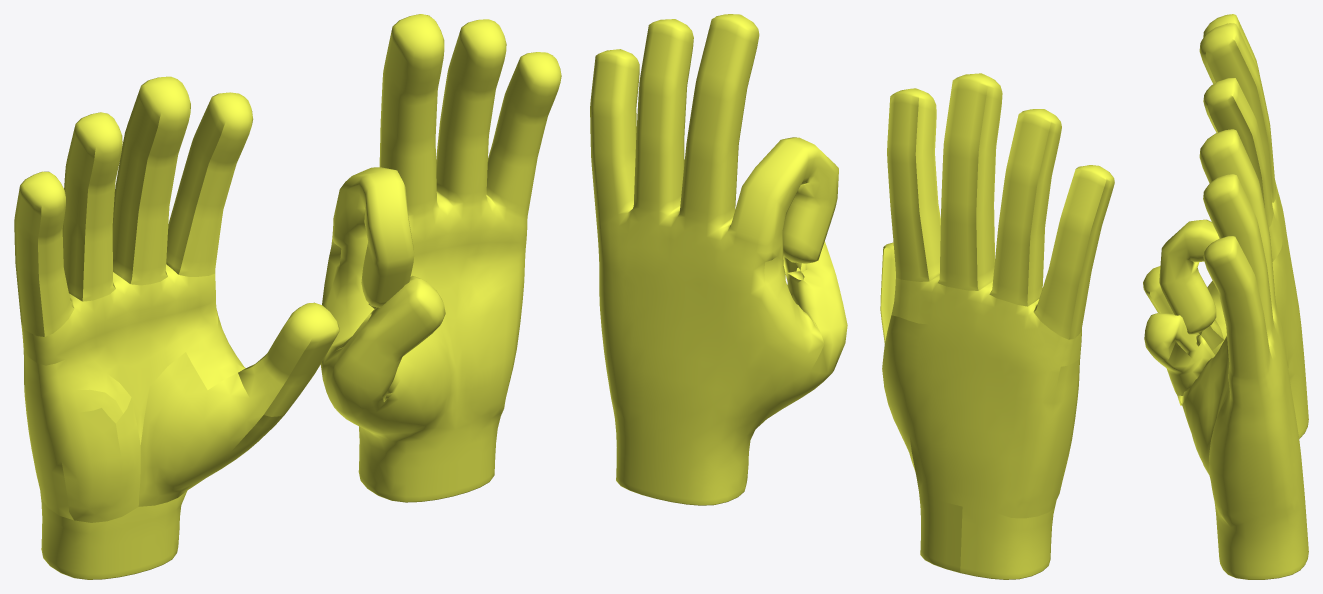
The picture shows the model from 3 angles, left to right: view 1: azimuth 30°, elevation 25°; view 2: azimuth 150°, elevation 25°; view 3: azimuth 270°, elevation 25°; orthographic projection. The views are drawn at different scales.
Parts seen in each view (by area): view 1: uploads_files_810024_Hand.001, uploads_files_810024_Hand; view 2: uploads_files_810024_Hand, uploads_files_810024_Hand.001; view 3: uploads_files_810024_Hand, uploads_files_810024_Hand.001.
Part boxes in pixels (bbox=[...]): uploads_files_810024_Hand.001: bbox=[14, 76, 339, 579]; uploads_files_810024_Hand: bbox=[320, 14, 561, 502]; uploads_files_810024_Hand: bbox=[590, 14, 847, 505]; uploads_files_810024_Hand.001: bbox=[880, 73, 1114, 579]; uploads_files_810024_Hand: bbox=[1144, 129, 1308, 579]; uploads_files_810024_Hand.001: bbox=[1143, 14, 1308, 438].
Size of the model in its own units: 3.29 by 2.84 by 1.03.
